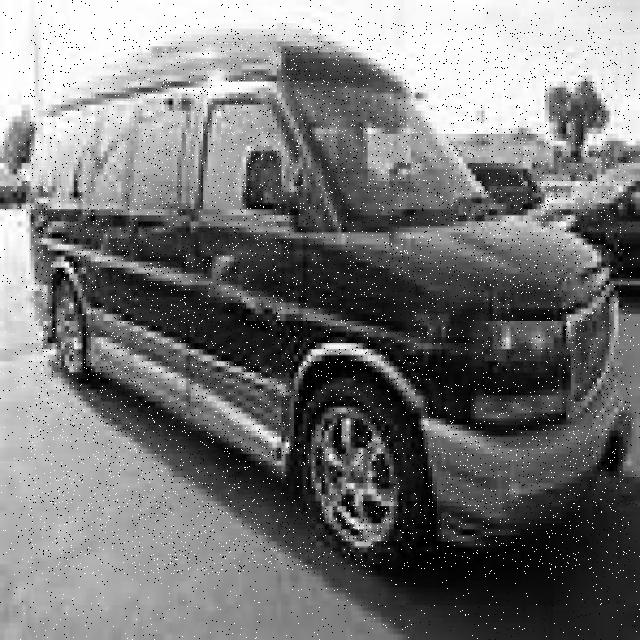Van: (29, 24, 632, 574)
